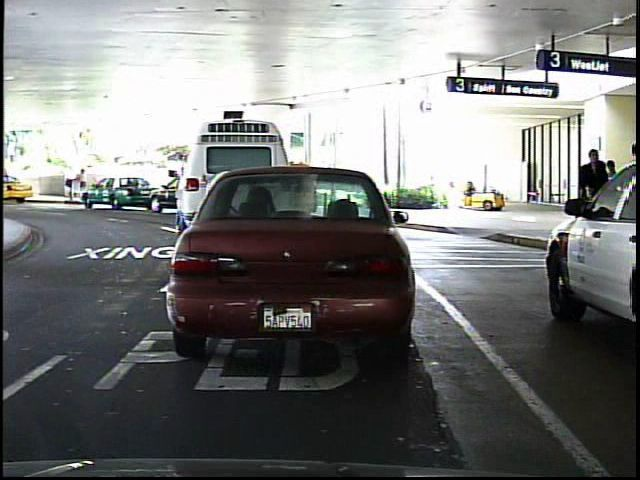person: (572, 144, 611, 250), (74, 164, 92, 202), (65, 161, 75, 200)
